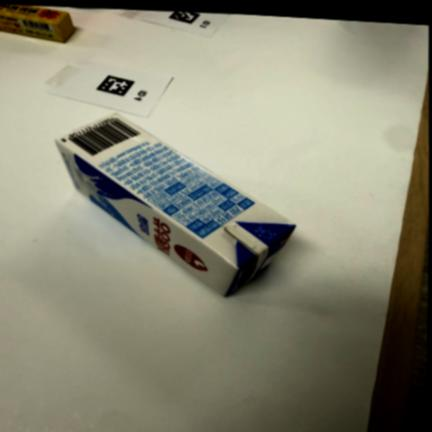milk_blue: (55, 114, 295, 296)
